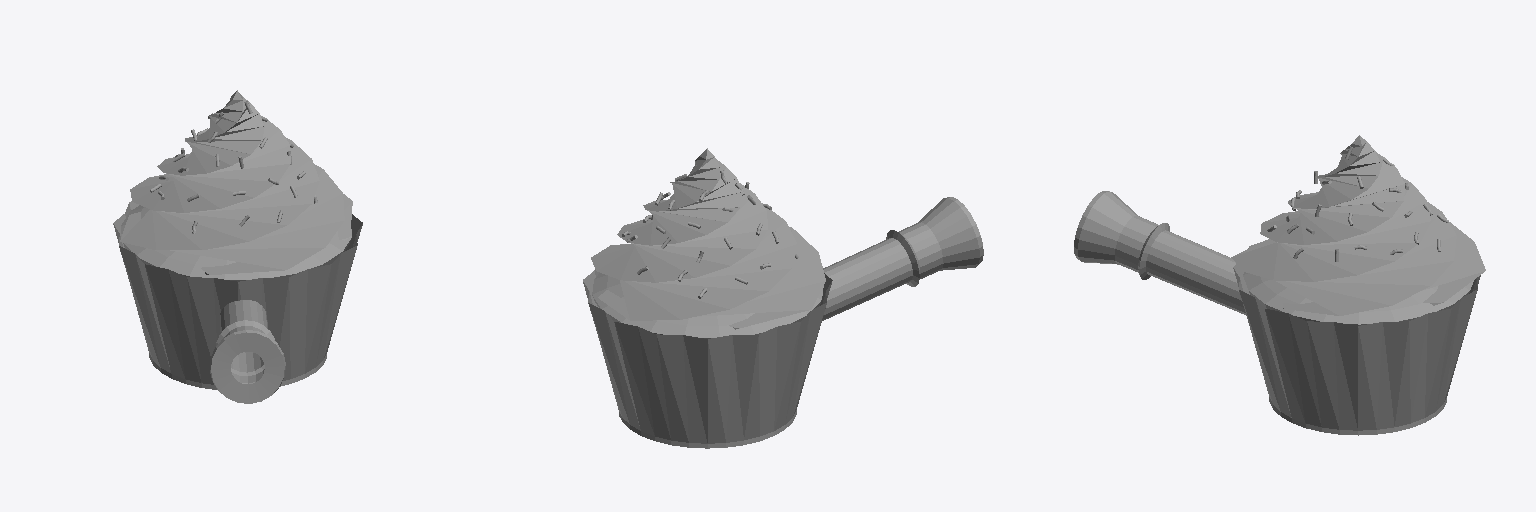
File: cupcake.obj
3 views of the same model, side by side, from view 1: azimuth 30°, elevation 25°; view 2: azimuth 150°, elevation 25°; view 3: azimuth 270°, elevation 25° (orthographic).
Visible parts, largest first — view 1: pCube3, pCylinder1, pCylinder9_group1, pSphere1; view 2: pCube3, pCylinder1, pCylinder9_group1, pSphere1; view 3: pCube3, pCylinder1, pCylinder9_group1, pSphere1.
Part boxes in pixels (x1,y1,x2,y2): pCube3: (120,90,352,274); pCylinder1: (113,201,362,389); pCylinder9_group1: (210,300,285,403); pSphere1: (121,205,351,281); pCube3: (591,148,825,329); pCylinder1: (583,269,832,448); pCylinder9_group1: (822,197,983,320); pSphere1: (592,273,823,338); pCube3: (1231,135,1485,315); pCylinder1: (1233,242,1480,435); pCylinder9_group1: (1074,191,1245,314); pSphere1: (1243,272,1473,325).
Bounding box in the file's own units: 5.89 × 5.69 × 8.09.